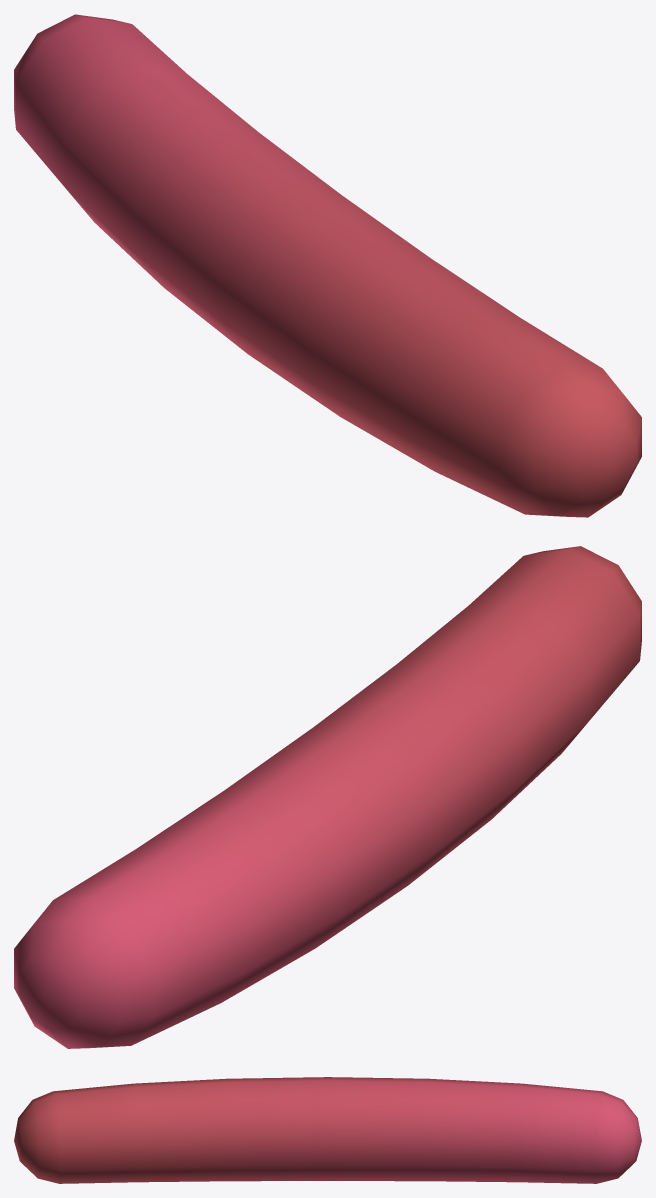
The model's file is sasuage_008.fbx.
The picture shows the model from 3 angles, top to bottom: view 1: azimuth 30°, elevation 25°; view 2: azimuth 150°, elevation 25°; view 3: azimuth 270°, elevation 25°; orthographic projection. The views are drawn at different scales.
Visible parts, largest first — view 1: sasuage_008; view 2: sasuage_008; view 3: sasuage_008.
Boxes of the visible parts, x1,y1,x2,y2 form: sasuage_008: (14, 14, 641, 517); sasuage_008: (14, 546, 641, 1048); sasuage_008: (14, 1077, 641, 1183).
Bounding box in the file's own units: 3.29 × 17.96 × 3.03.
